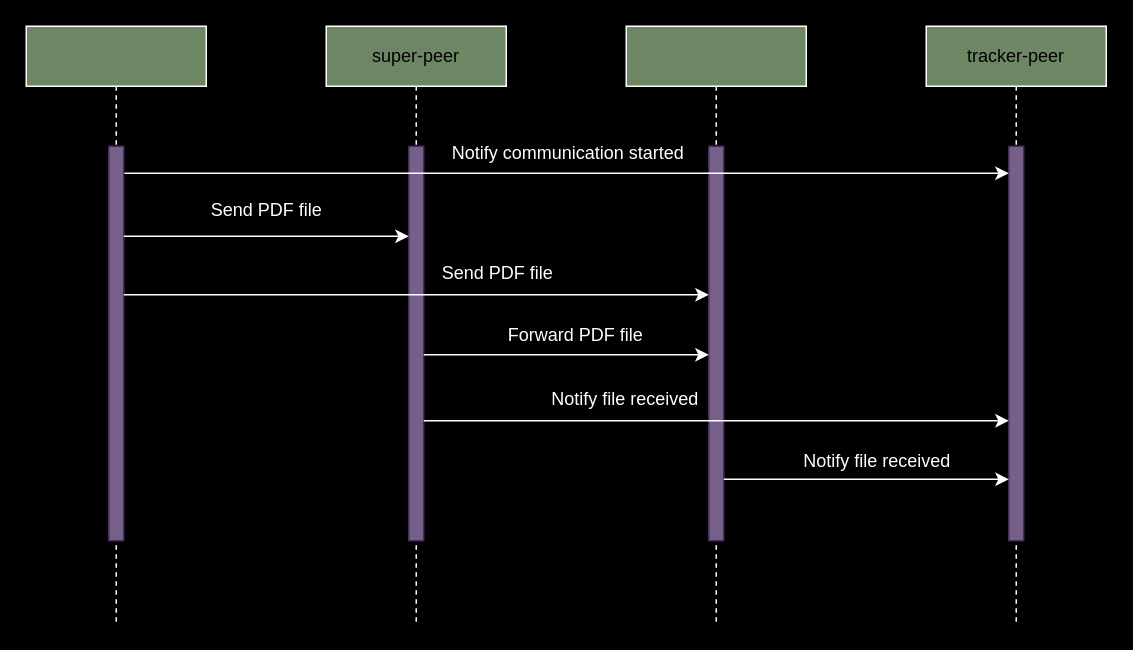
The diagram is 1133 pixels wide and 650 high, and some of its shapes have lost their labels. Each missing label, with the centre of its shape:
"lectureStudio-server" belongs at pixel 115 324.
"peer" belongs at pixel 715 324.
